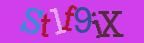1: (49, 8, 65, 34)
9: (74, 7, 91, 32)
S: (20, 7, 43, 33)
X: (98, 11, 123, 36)
f: (62, 5, 78, 30)
i: (91, 12, 105, 37)
t: (41, 13, 50, 36)
